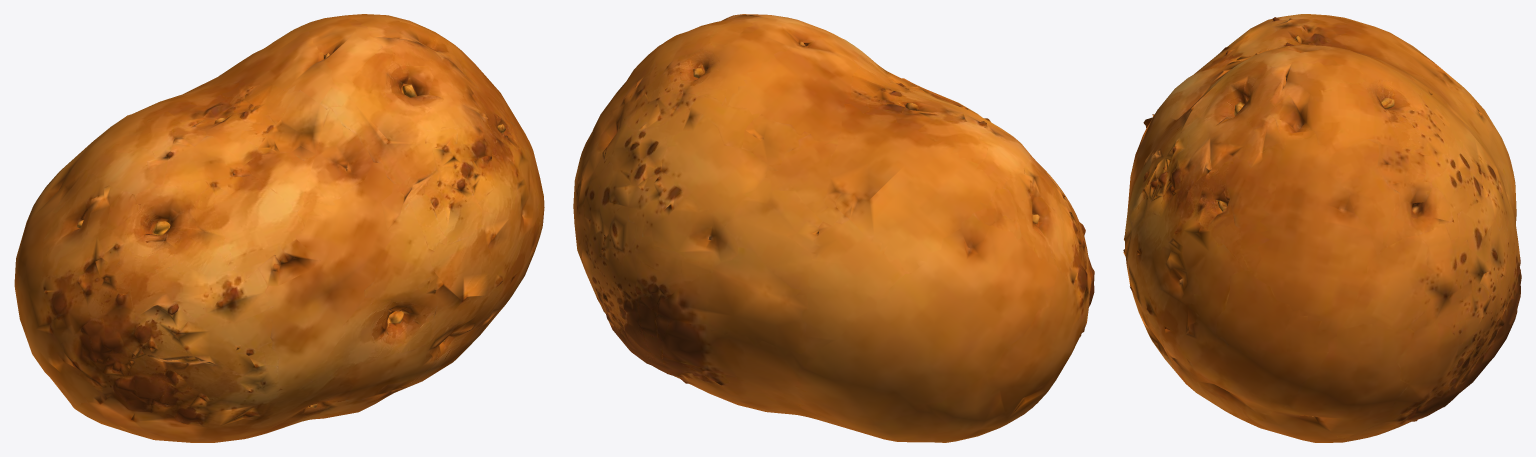
File: d_potato.glb
3 views of the same model, side by side, from view 1: azimuth 30°, elevation 25°; view 2: azimuth 150°, elevation 25°; view 3: azimuth 270°, elevation 25° (orthographic). The views are drawn at different scales.
Bounding box in the file's own units: 1.9 × 1.39 × 1.31.
Materials: 1 (1 with a texture image).
